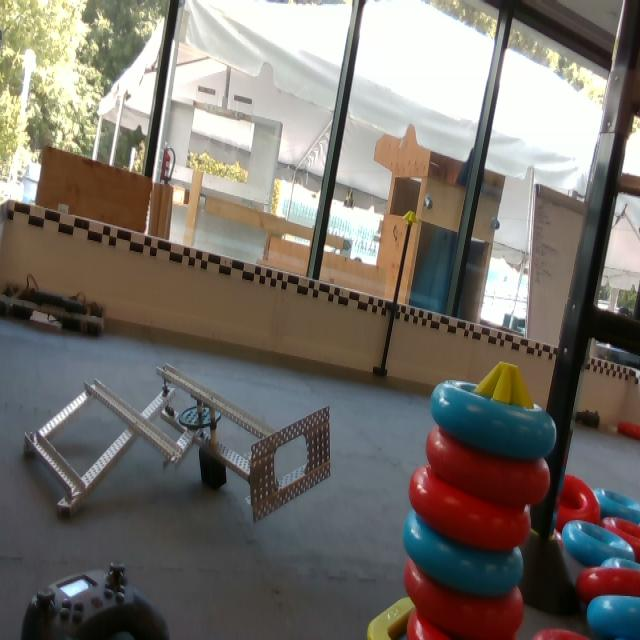Blue-Ring: (429, 380, 559, 456), (405, 517, 524, 596), (564, 523, 638, 566), (584, 595, 639, 636), (596, 488, 638, 516), (603, 557, 639, 571)
Mobile-Goal: (363, 362, 538, 639)
Red-Ring: (410, 468, 531, 550), (402, 560, 526, 636), (423, 431, 550, 503), (554, 473, 602, 527), (581, 567, 639, 597), (405, 614, 449, 639), (606, 520, 639, 551), (526, 630, 591, 639)
Yellow-Stake-Head: (474, 362, 534, 408), (404, 211, 418, 224)
